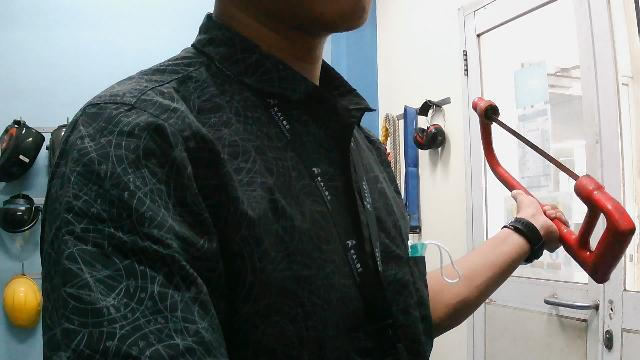gergaji_besi: (443, 73, 640, 289)
